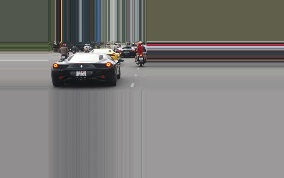plate: (75, 69, 85, 75), (138, 57, 144, 60)
